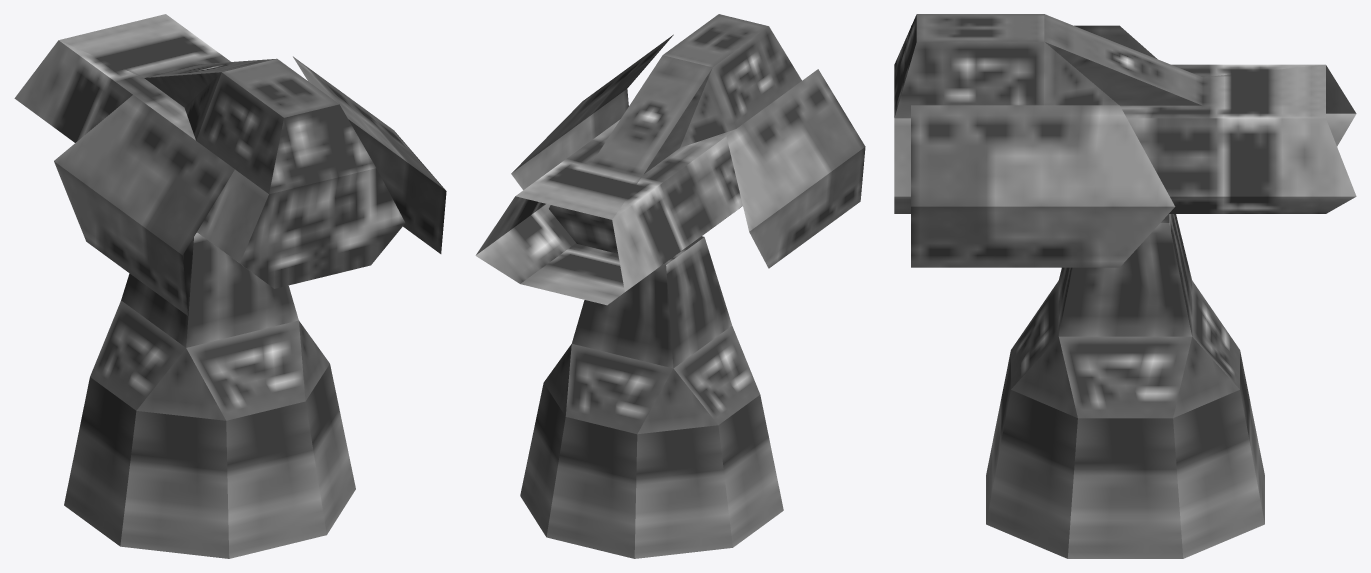
Rendered from turret-standard.glb.
The picture shows the model from 3 angles, left to right: view 1: azimuth 30°, elevation 25°; view 2: azimuth 150°, elevation 25°; view 3: azimuth 270°, elevation 25°; orthographic projection. The views are drawn at different scales.
Visible parts, largest first — view 1: root; view 2: root; view 3: root.
Part boxes in pixels (x1=…): root: x1=14, y1=14, x2=446, y2=558; root: x1=475, y1=14, x2=865, y2=558; root: x1=894, y1=14, x2=1356, y2=558.
Bounding box in the file's own units: 0.9551 × 1.59 × 1.41.
Materials: 1 (1 with a texture image).
